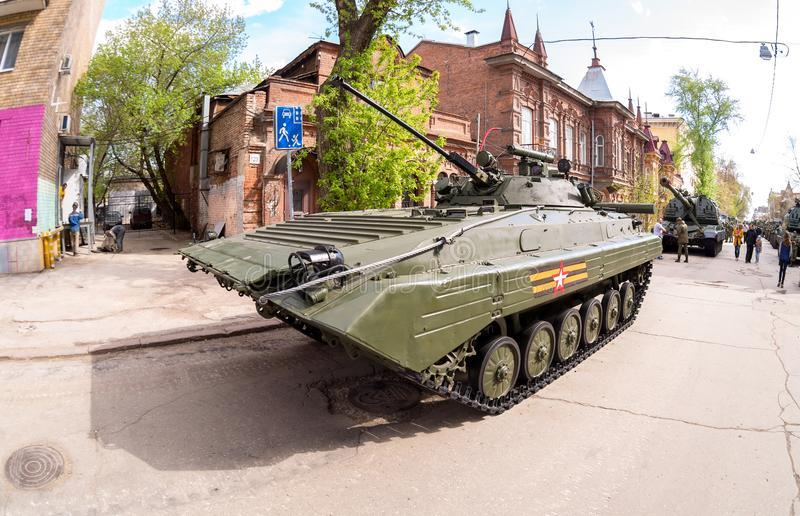bmp: (184, 173, 660, 412)
